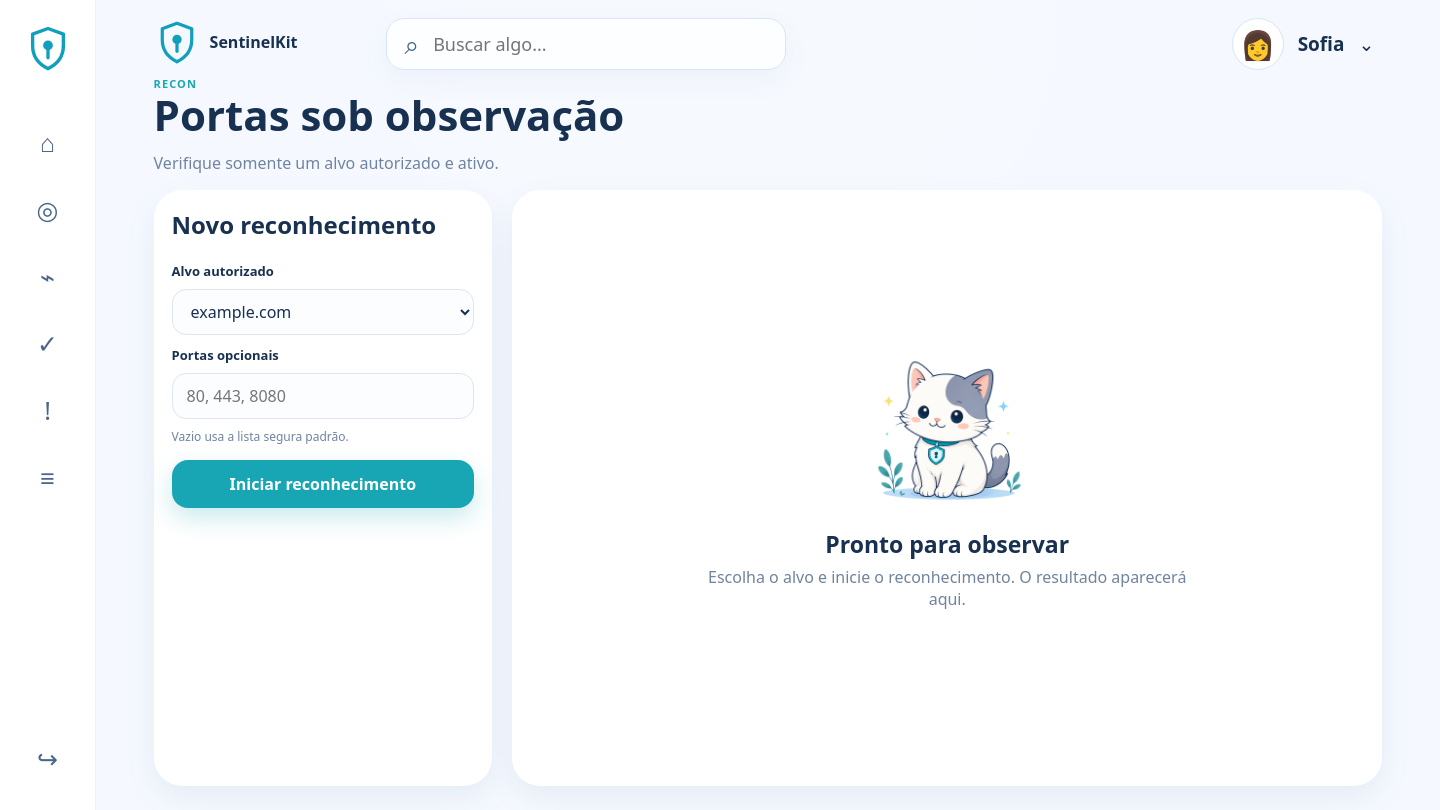
Test: scan views › renders recon open ports after polling completes
The width and height of the screenshot is (1440, 810).
Click the button "Iniciar reconhecimento". click: (323, 484)
box: [172,460,474,508]
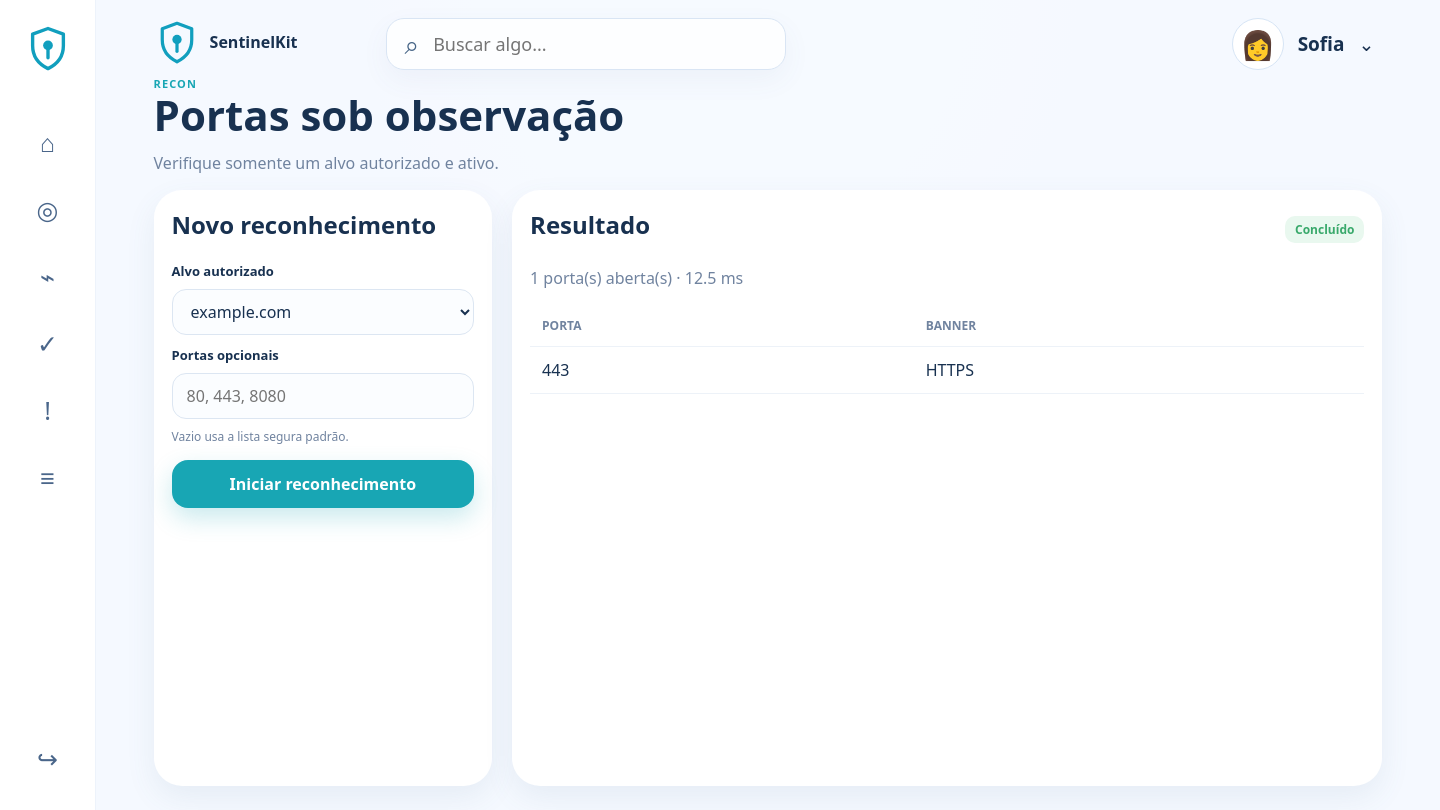
Expected: the text "HTTPS" is shown, [914,347,1364,394]
Expected: the text "443" is shown, [530,347,914,394]
